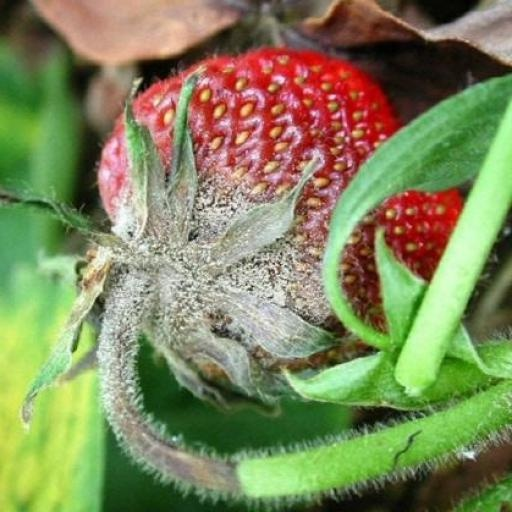Gray Mold: (82, 15, 494, 461)
